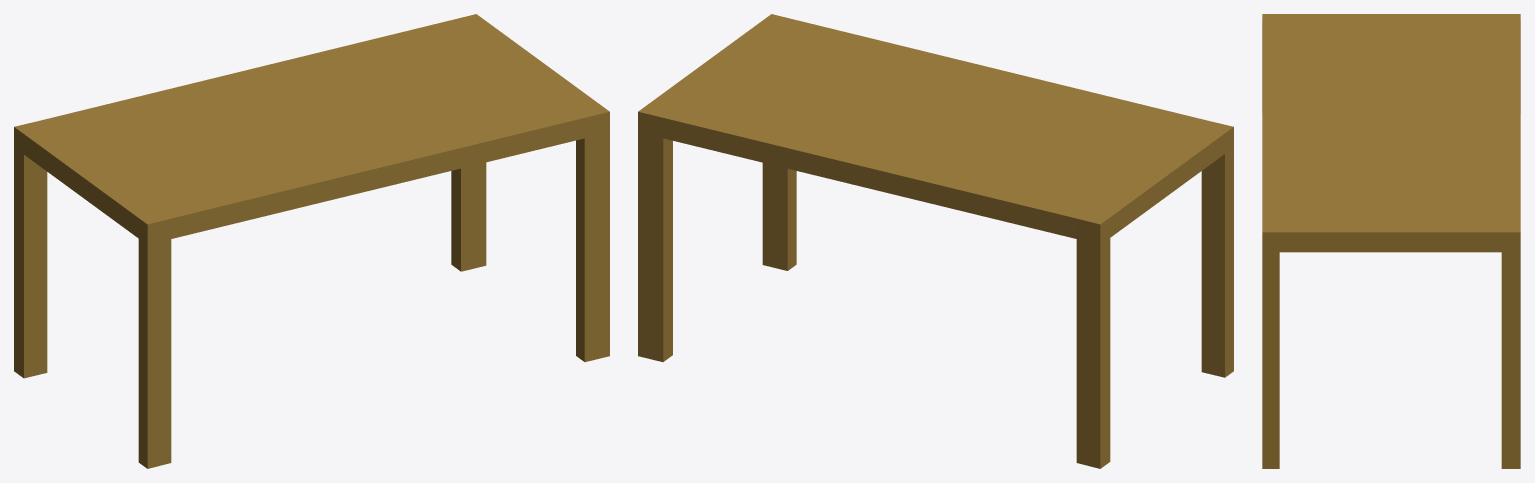
File: table.glb
3 renders of one model, left to right at view 1: azimuth 30°, elevation 25°; view 2: azimuth 150°, elevation 25°; view 3: azimuth 270°, elevation 25°, orthographic. The views are drawn at different scales.
Parts seen in each view (by area): view 1: Box; view 2: Box; view 3: Box.
Boxes of the visible parts, left/top/right/bottom form: Box: left=14, top=14, right=609, bottom=468; Box: left=638, top=14, right=1233, bottom=468; Box: left=1262, top=14, right=1520, bottom=468.
Bounding box in the file's own units: 2 × 1.01 × 1.
